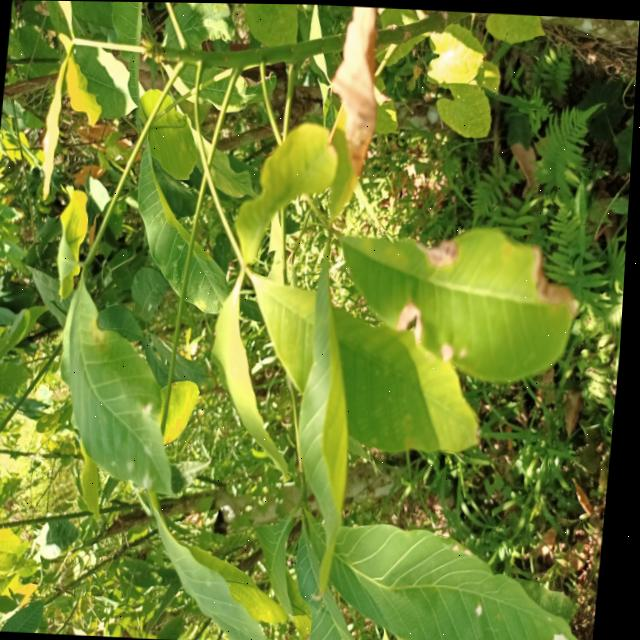Leaf-Blight: (322, 4, 386, 176), (530, 245, 583, 313), (415, 235, 461, 267), (397, 297, 427, 342), (442, 342, 458, 359)
